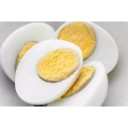begg: (13, 40, 81, 102)
